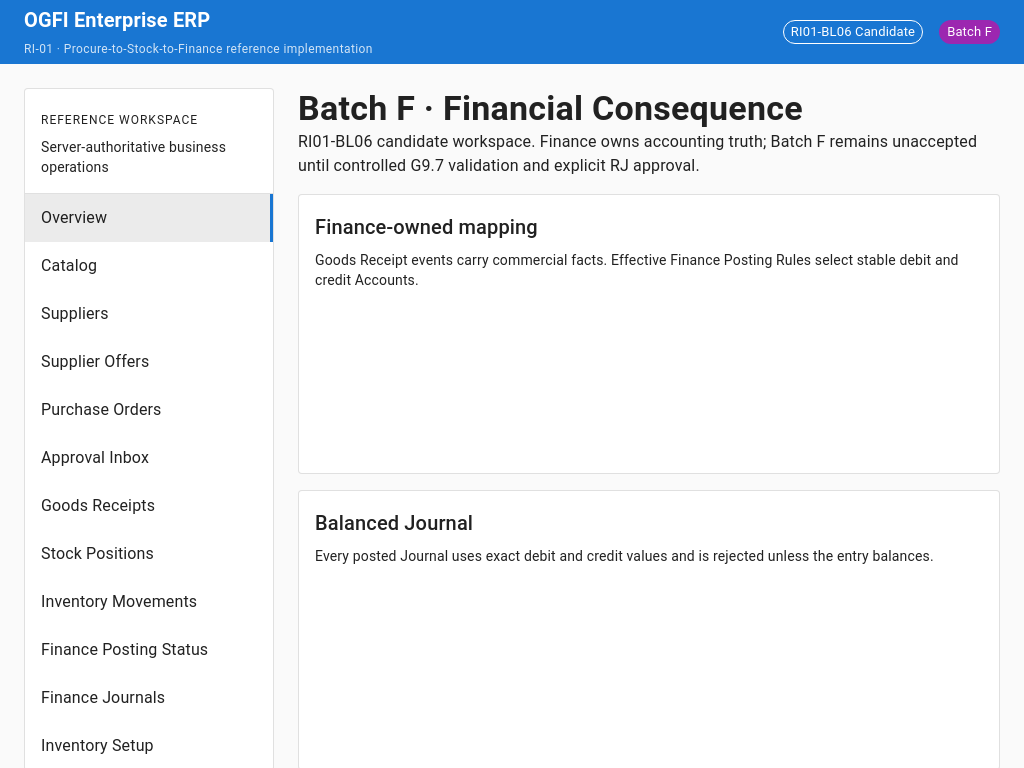
Test case: Batch F application workspace › uses the authenticated approval inbox and records the approval through the typed API path
What coordinates should you click on to do the following:
click the link "Approval Inbox"
I would click on:
 (95, 457)
Its box is [41,448,149,467].
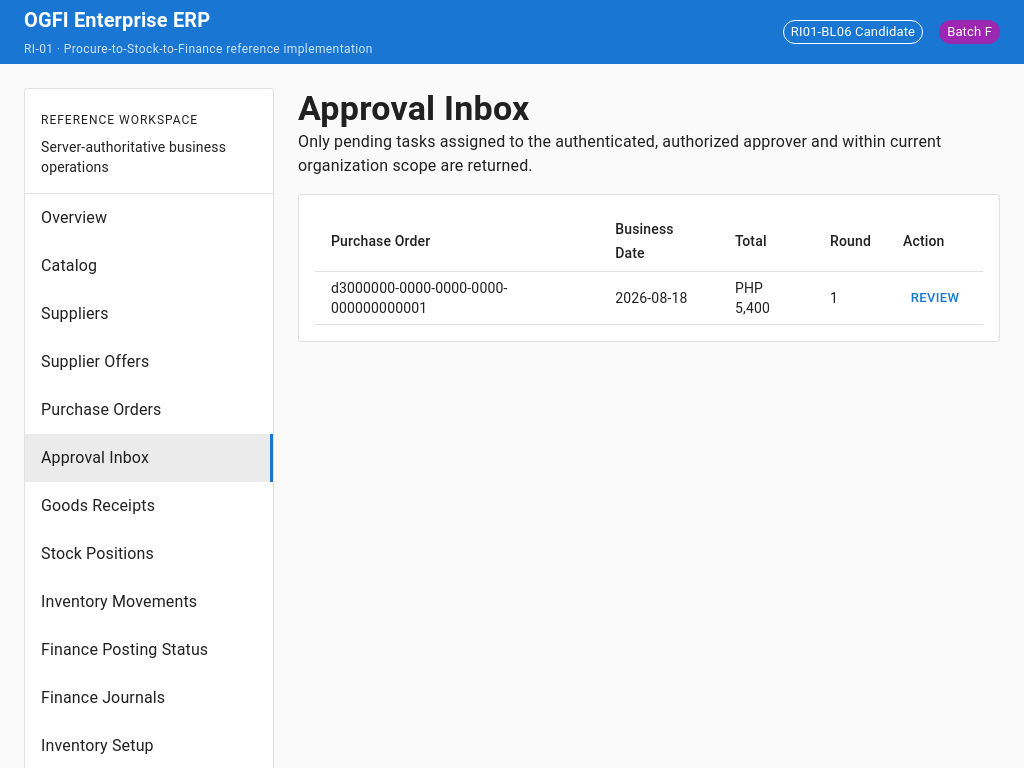
expect the text "d3000000-0000-0000-0000-000000000001" is shown: met, box [315,272,599,324]
What coordinates should you click on to do the following:
click the link "Review"
I would click on:
 (935, 297)
Its box is [911,290,959,305].
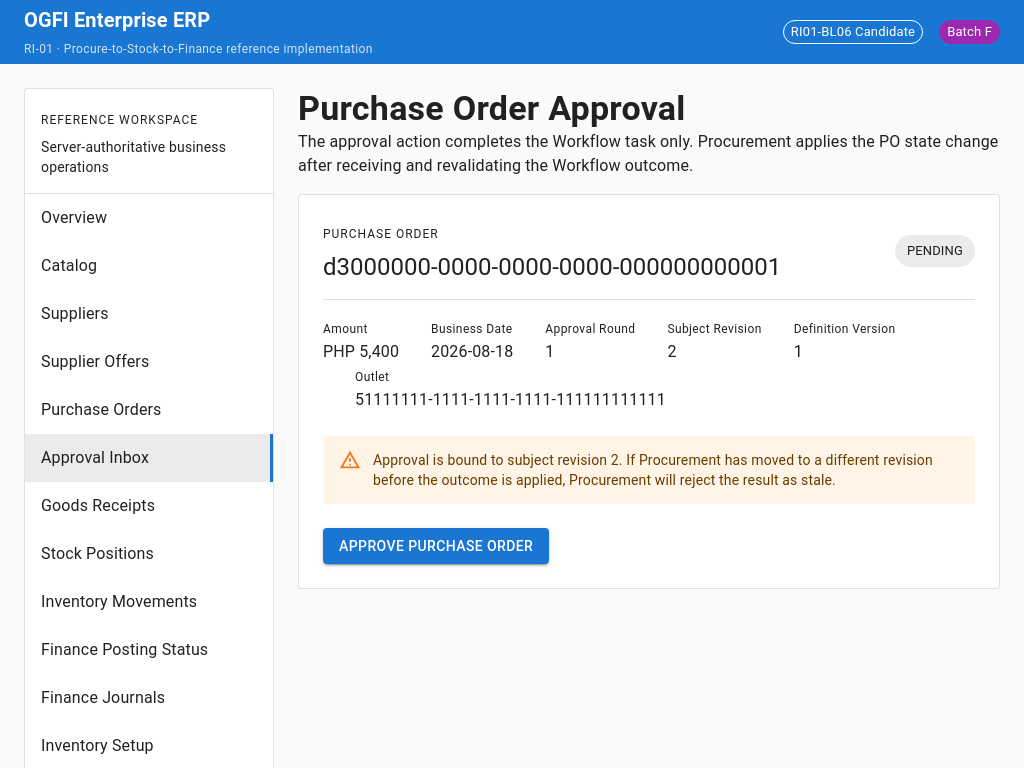
expect the text "PHP 5,400" is shown: met, box [323,340,399,364]
expect the heading "Purchase Order Approval" is shown: met, box [298,88,686,128]
What coordinates should you click on to do the following:
click the button "Approve Purchase Order"
I would click on:
 (436, 546)
Its box is [323,528,549,564].
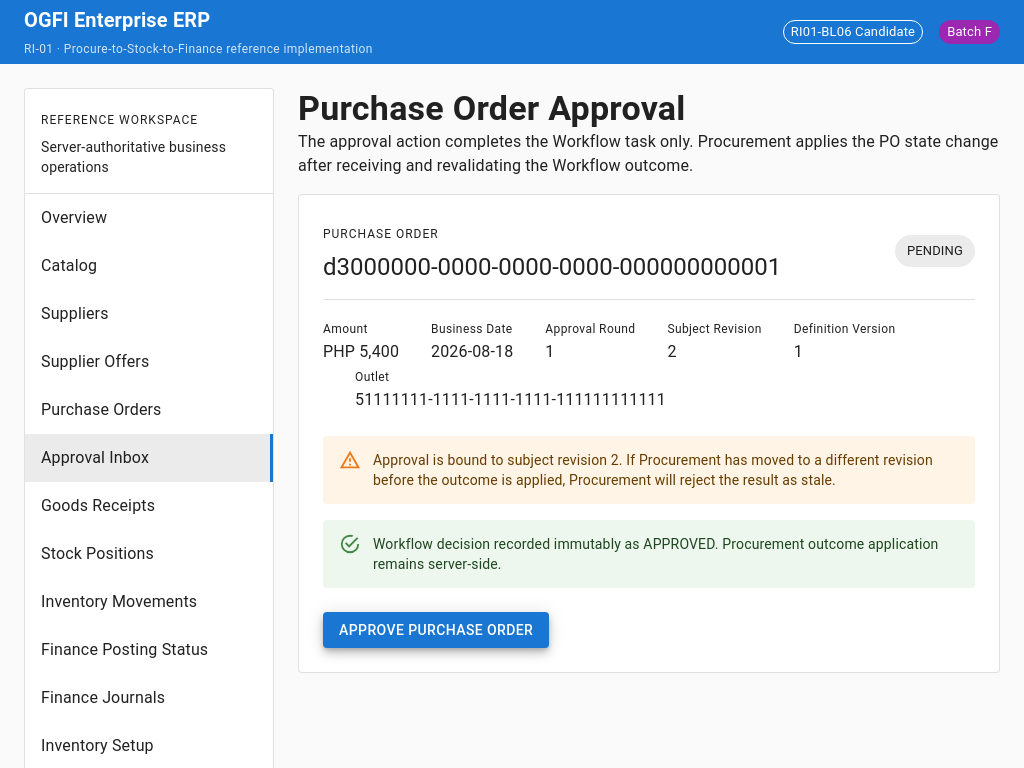
expect the text "Workflow decision recorded immutably as APPROVED" is shown: met, box [373,526,959,582]
